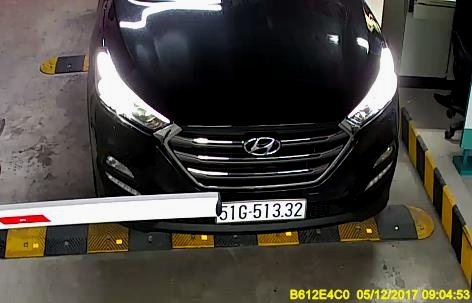plate: (212, 198, 308, 225)
